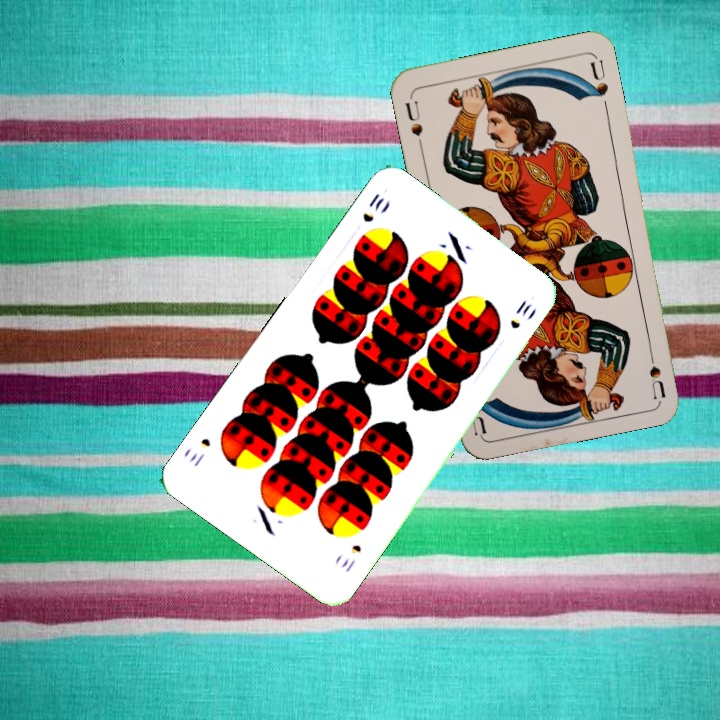S10: (358, 189, 387, 225), (337, 540, 364, 575)
SU: (644, 340, 668, 400), (400, 96, 426, 151)
